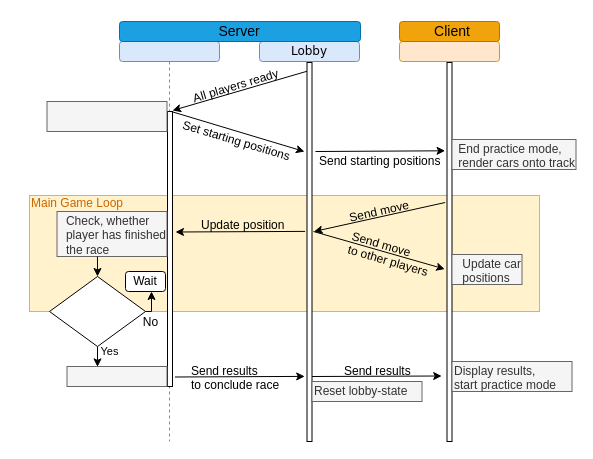
Some shapes in this 593 by 459 pixel diagram are drawn without their labels. The shapes that lost their labels are listed below. From the top down, each one's box as (x1, y1, x2, y2) in pixels, then its label:
(46, 100, 167, 132): Set starting positions for lobby members
(118, 40, 220, 442): GameState
(398, 40, 500, 442): GameNode
(48, 276, 146, 346): All players finished?
(66, 366, 167, 386): Calculate results
